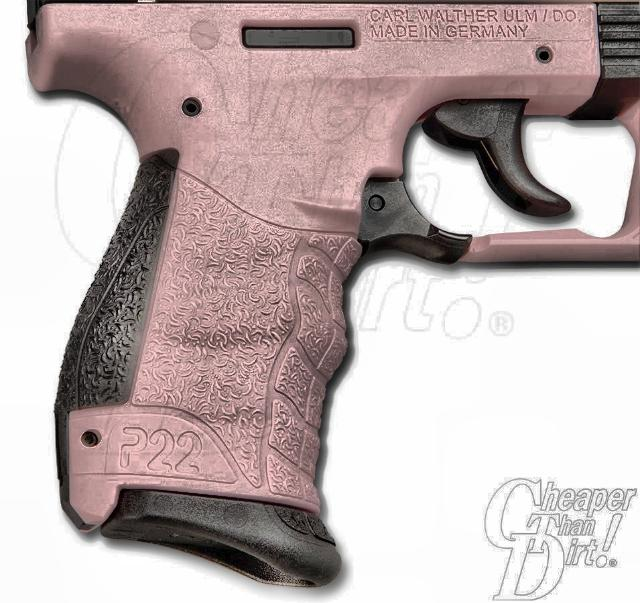pistol: (19, 2, 638, 582)
